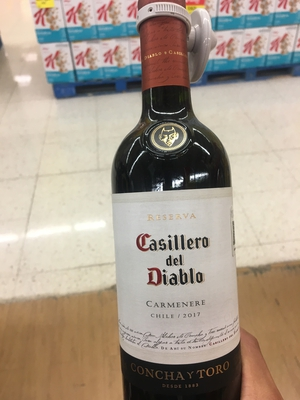casillero del diablo carmenere: (109, 16, 254, 396)
